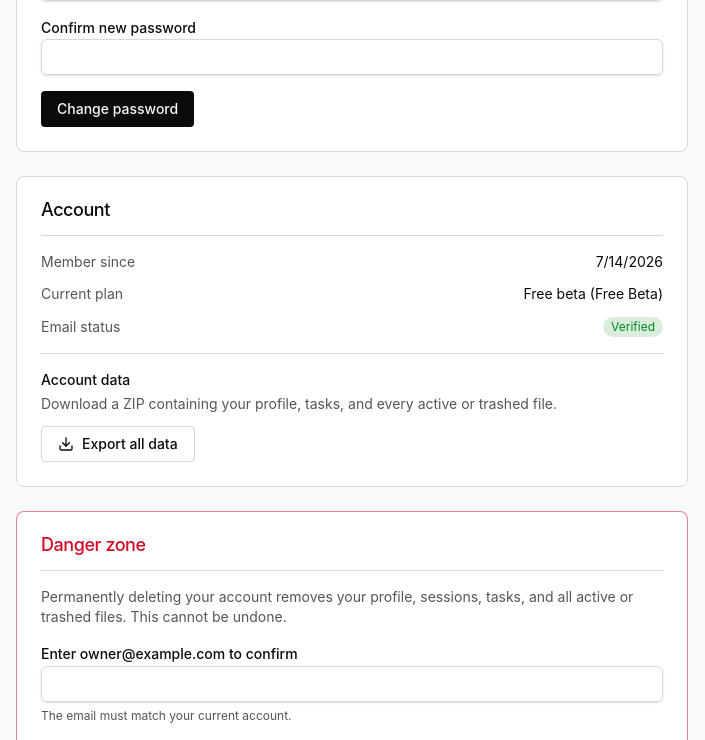
Scenario: SettingsPage account controls › shows export start failure and retries browser navigation
This screenshot has width=705, height=740.
(page scrolled)
Click the button "Export all data" at (118, 444), box x1=41 y1=426 x2=195 y2=462
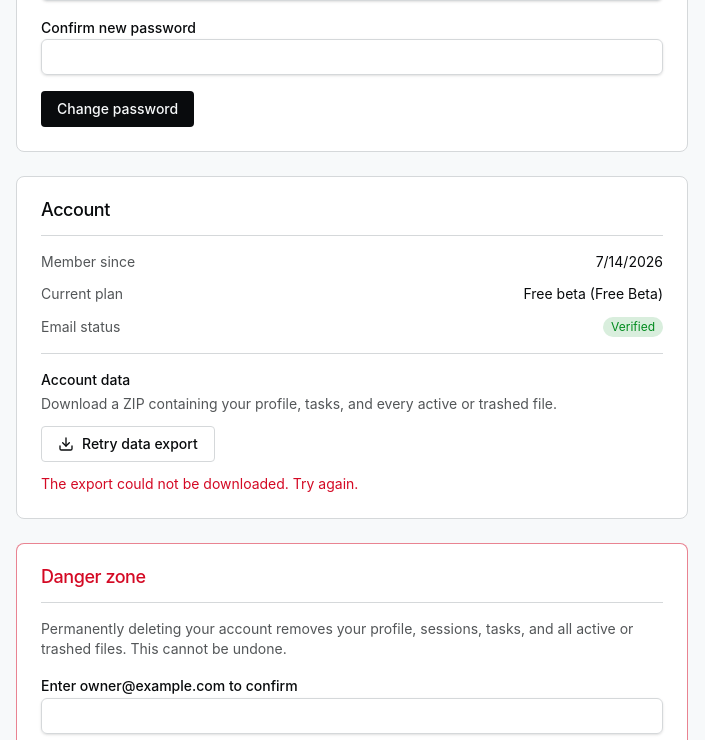
Expected: the message reads "The export could not be downloaded. Try again.", x1=41 y1=475 x2=358 y2=492
Click the button "Retry data export" at (128, 444), box x1=41 y1=426 x2=215 y2=462
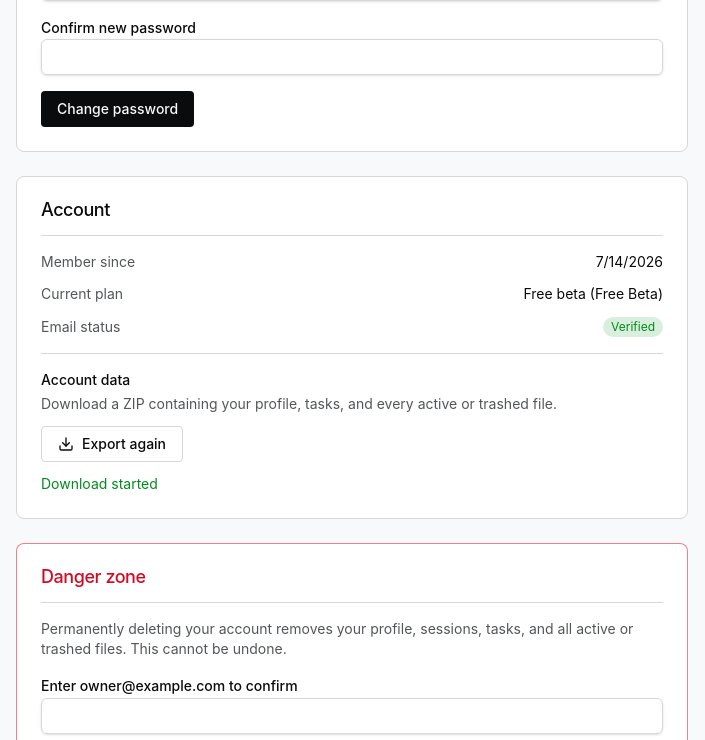
Expected: the message "Download started" is shown, x1=41 y1=475 x2=158 y2=492
